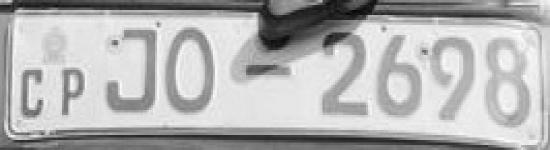-: (239, 55, 299, 89)
2: (316, 23, 374, 122)
6: (374, 26, 426, 122)
8: (479, 32, 536, 134)
9: (426, 30, 480, 130)
C: (15, 64, 50, 123)
J: (104, 17, 163, 117)
O: (163, 20, 220, 120)
P: (57, 65, 92, 120)
